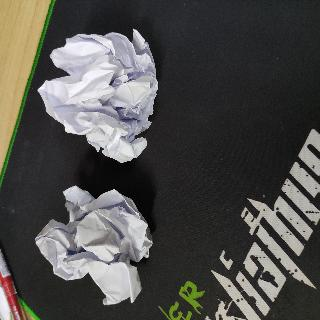8/可回收垃圾/纸: (37, 26, 159, 164), (34, 184, 154, 308)
